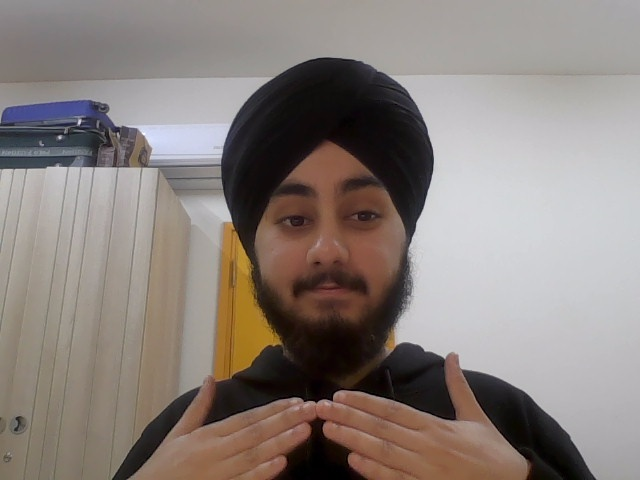Thanks: (137, 348, 535, 480)
